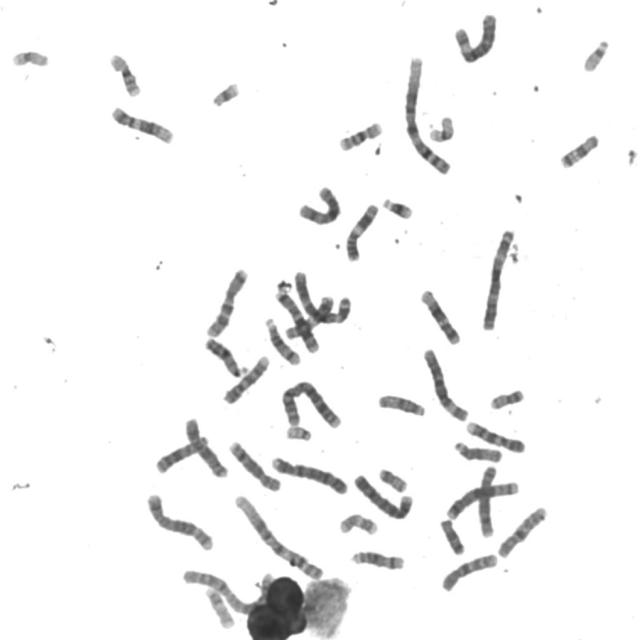A1: (229, 489, 326, 582), (399, 50, 454, 176)
A2: (178, 564, 269, 616), (277, 376, 344, 430)
A3: (477, 225, 517, 332), (290, 266, 354, 326)
B4: (349, 468, 416, 522), (268, 452, 350, 496)
B5: (142, 488, 216, 552), (441, 477, 522, 521)
C10: (493, 500, 550, 560), (436, 548, 500, 594)
C11: (342, 199, 380, 263), (282, 296, 336, 340)
C12: (106, 100, 176, 146), (416, 284, 462, 346)
C6: (419, 343, 470, 423), (450, 7, 499, 65)
C7: (202, 262, 250, 338), (270, 284, 322, 354)
C8: (224, 436, 283, 493), (474, 460, 499, 539)
C9: (218, 350, 272, 406), (462, 416, 528, 455)
D13: (151, 430, 212, 475), (200, 332, 249, 378)
D14: (260, 312, 302, 366), (346, 546, 406, 572)
D15: (373, 389, 428, 418), (450, 437, 504, 464)
E16: (105, 48, 142, 98), (334, 116, 384, 152)
E17: (201, 584, 236, 630), (335, 509, 380, 537)
E18: (556, 134, 600, 170), (436, 514, 467, 556)
F19: (424, 110, 457, 144), (7, 44, 51, 68)
F20: (486, 384, 526, 411), (374, 464, 409, 494)
G21: (207, 76, 241, 108), (378, 193, 415, 221)
G22: (579, 34, 611, 73), (282, 421, 313, 442)
X: (180, 412, 230, 480), (294, 180, 342, 227)
